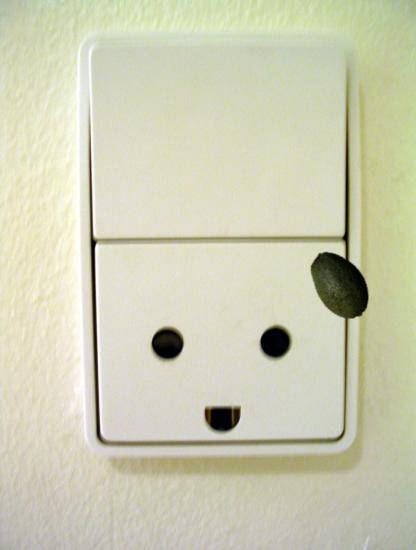Avocado: (302, 247, 378, 323)
